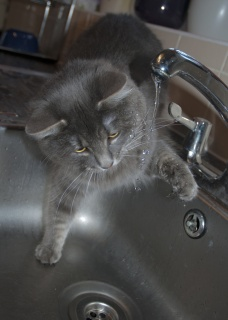Cat: (21, 10, 198, 265)
